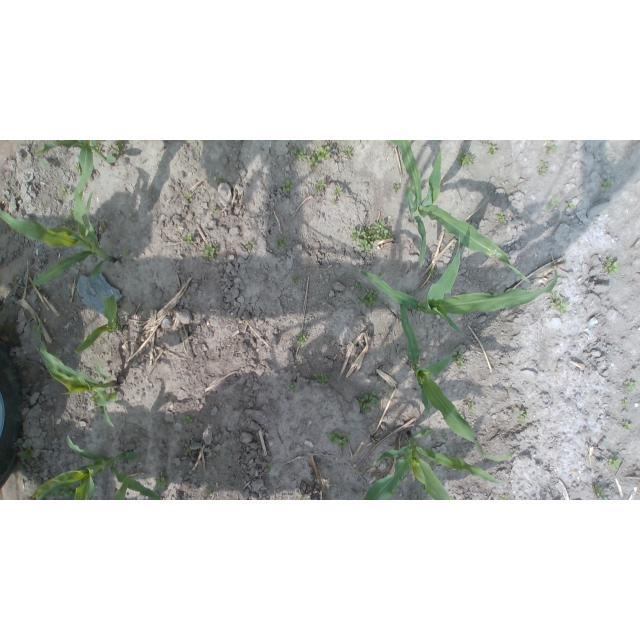Maize: (389, 140, 535, 285), (360, 231, 561, 330), (395, 302, 516, 462), (1, 189, 116, 284), (366, 430, 501, 500), (36, 318, 116, 427), (33, 436, 161, 501), (35, 141, 118, 226), (77, 296, 120, 353), (108, 473, 136, 500)
Weeds: (351, 220, 394, 253), (325, 430, 353, 451), (307, 145, 331, 168), (549, 292, 570, 313), (59, 208, 78, 231), (359, 390, 377, 413), (359, 288, 379, 308), (456, 150, 475, 168), (452, 347, 467, 369), (592, 484, 608, 501), (156, 472, 170, 491), (203, 244, 218, 261), (605, 258, 620, 275), (546, 195, 561, 212), (536, 159, 550, 177), (293, 147, 307, 162), (314, 372, 329, 385), (544, 140, 559, 153), (314, 179, 326, 195), (515, 409, 527, 424), (282, 179, 294, 194), (624, 380, 638, 392), (113, 140, 123, 156), (276, 238, 288, 251), (600, 179, 612, 192), (607, 458, 621, 469), (331, 185, 343, 197), (486, 144, 498, 156), (297, 333, 308, 346), (495, 211, 506, 223), (288, 383, 299, 394), (39, 159, 50, 170), (59, 187, 71, 197), (342, 146, 352, 158), (183, 232, 193, 244), (622, 422, 634, 431), (182, 416, 192, 426), (245, 241, 256, 250), (468, 400, 476, 412), (185, 191, 193, 202), (565, 201, 576, 209), (292, 276, 301, 285), (428, 269, 437, 278), (487, 289, 498, 296), (393, 183, 402, 191), (266, 463, 274, 472), (329, 197, 337, 205), (96, 144, 103, 153), (621, 399, 629, 406), (122, 249, 130, 256), (356, 283, 363, 291), (32, 324, 38, 333), (210, 206, 216, 215), (500, 494, 509, 500), (217, 176, 224, 183), (205, 490, 211, 497), (74, 163, 80, 170), (300, 494, 307, 500), (440, 434, 447, 440), (460, 413, 465, 419), (78, 170, 83, 176)
